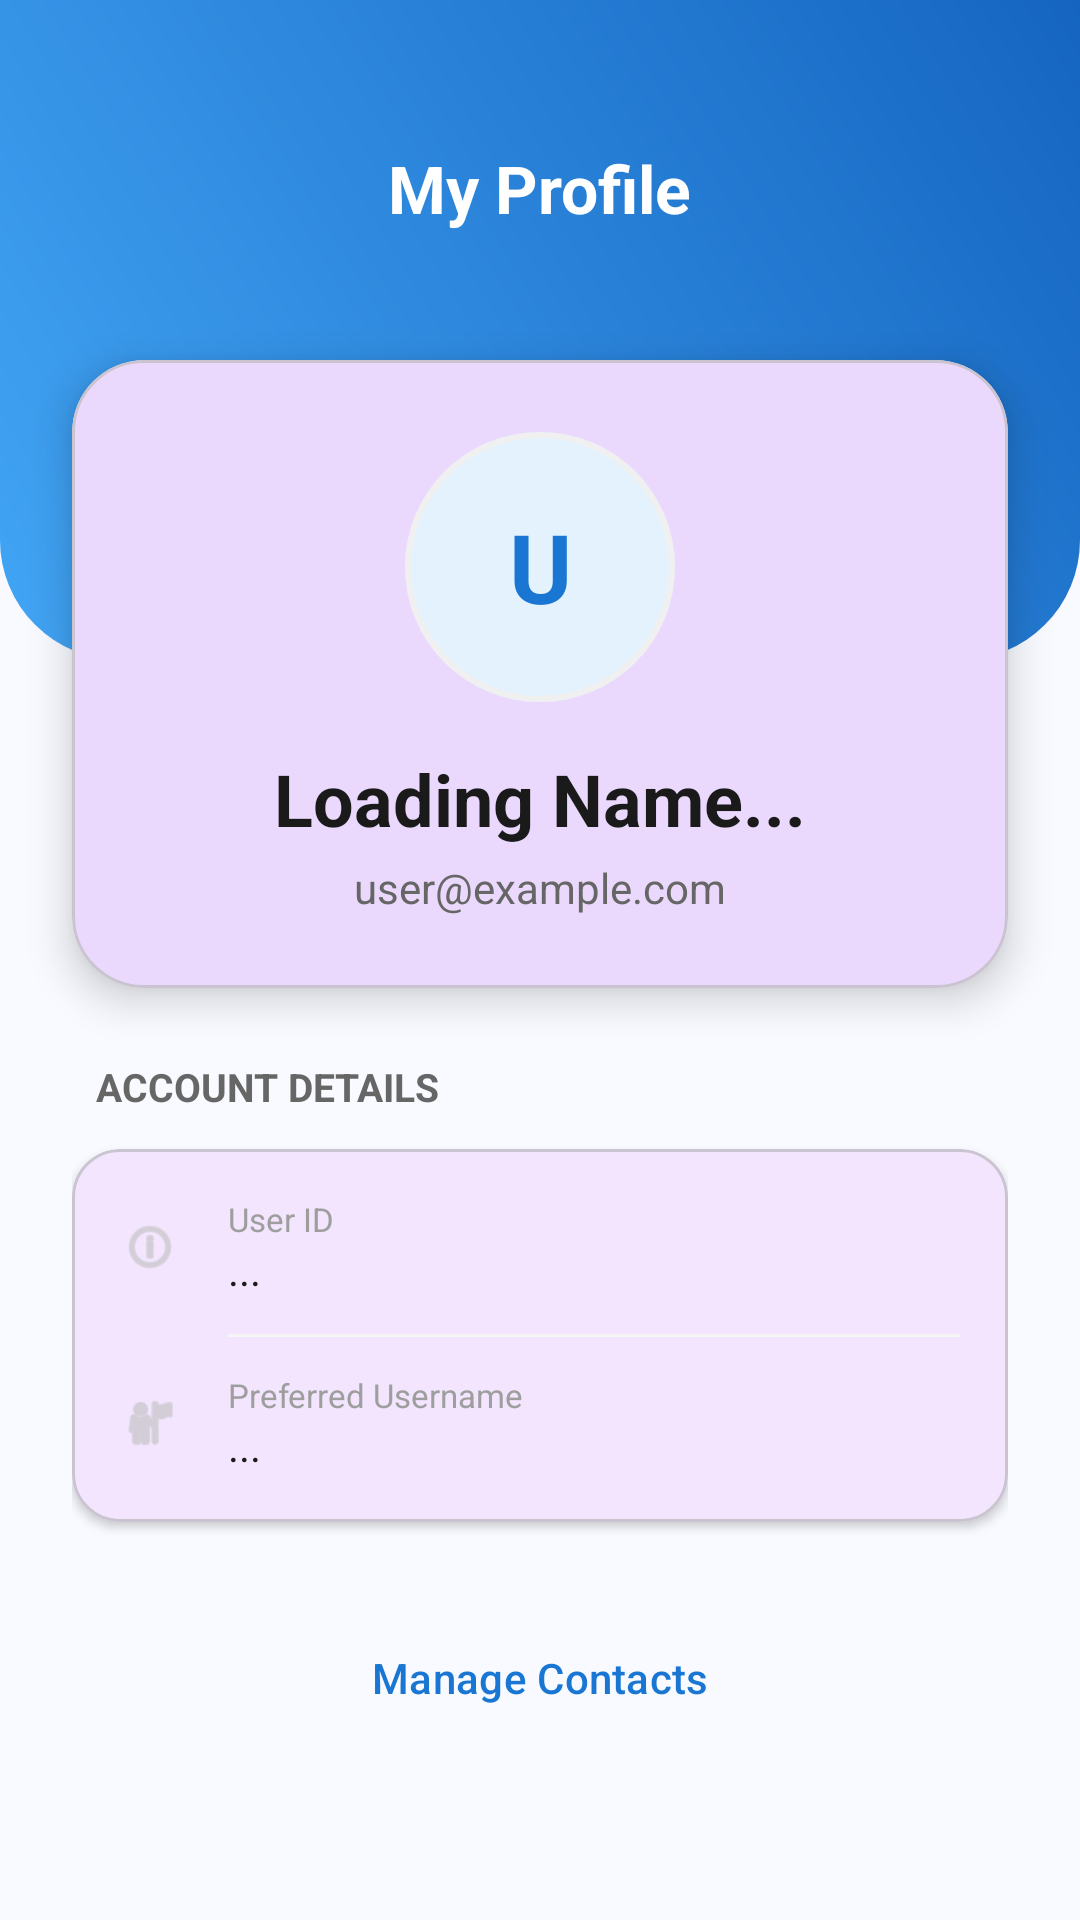

Icons on this 1080 x 1920 Android screen, each with its box as (x1, y1, x2, y2):
info details: (129, 1226, 171, 1268)
myplaces: (129, 1401, 172, 1445)
